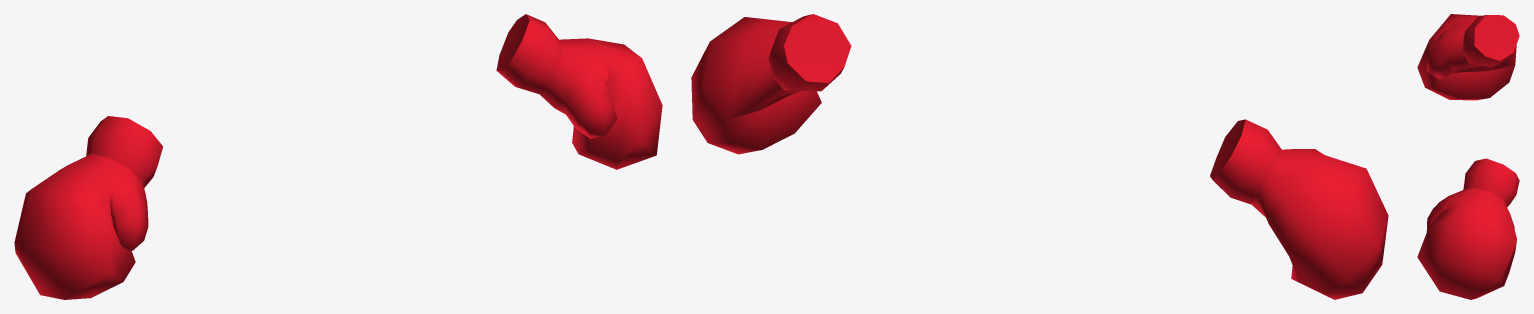
The model's file is BoxingGloves.fbx.
3 renders of one model, left to right at view 1: azimuth 30°, elevation 25°; view 2: azimuth 150°, elevation 25°; view 3: azimuth 270°, elevation 25°, orthographic. The views are drawn at different scales.
Visible parts, largest first — view 1: Boxing_gloves; view 2: Boxing_gloves; view 3: Boxing_gloves.
Part boxes in pixels (x1,y1,x2,y2): Boxing_gloves: (14, 14, 662, 299); Boxing_gloves: (691, 14, 1388, 299); Boxing_gloves: (1417, 14, 1519, 299).
Bounding box in the file's own units: 141 × 32.4 × 26.66.
